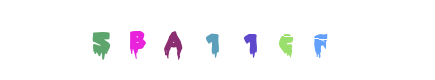1: (178, 0, 258, 80), (211, 0, 291, 80)
5: (61, 0, 141, 80)
A: (133, 0, 213, 80)
B: (96, 0, 176, 80)
C: (219, 0, 299, 80)
F: (221, 0, 301, 80)
